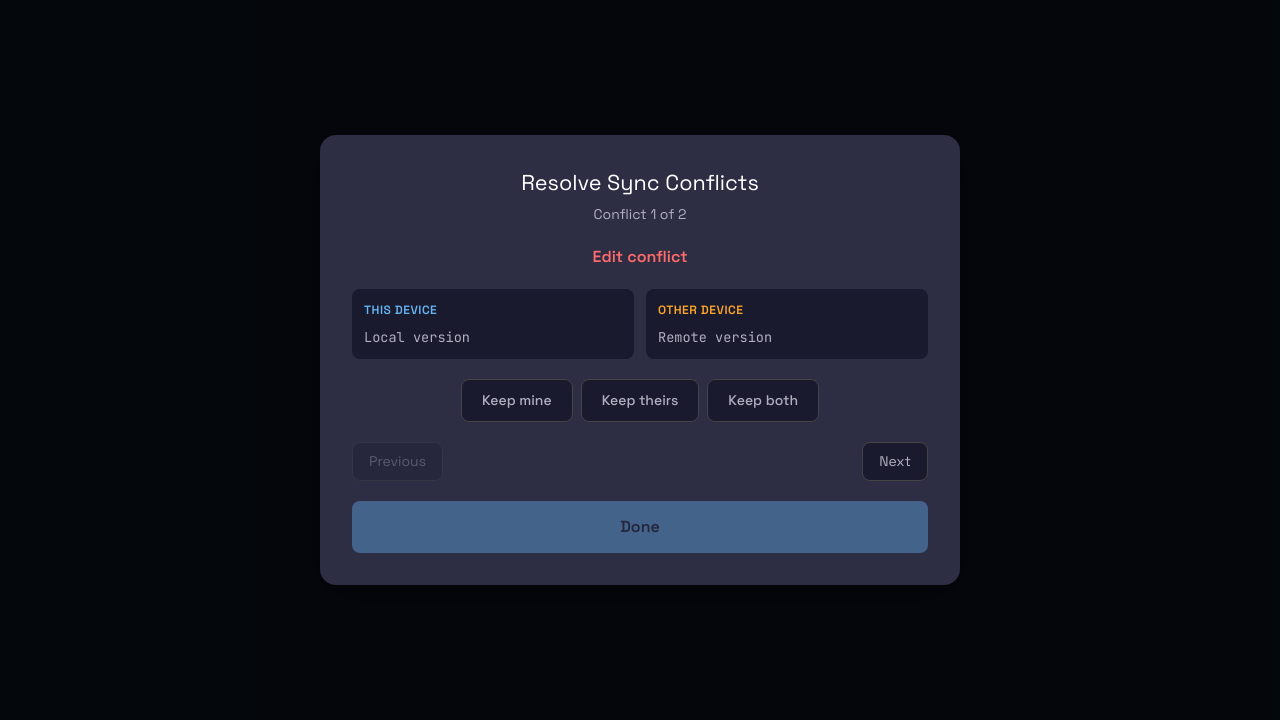
Test: ConflictResolver › navigates between multiple conflicts
The width and height of the screenshot is (1280, 720).
# Click the Next button (second .nav-btn)
Click the button with class "nav-btn" showing "Next" at (895, 461), box [862, 442, 928, 481]
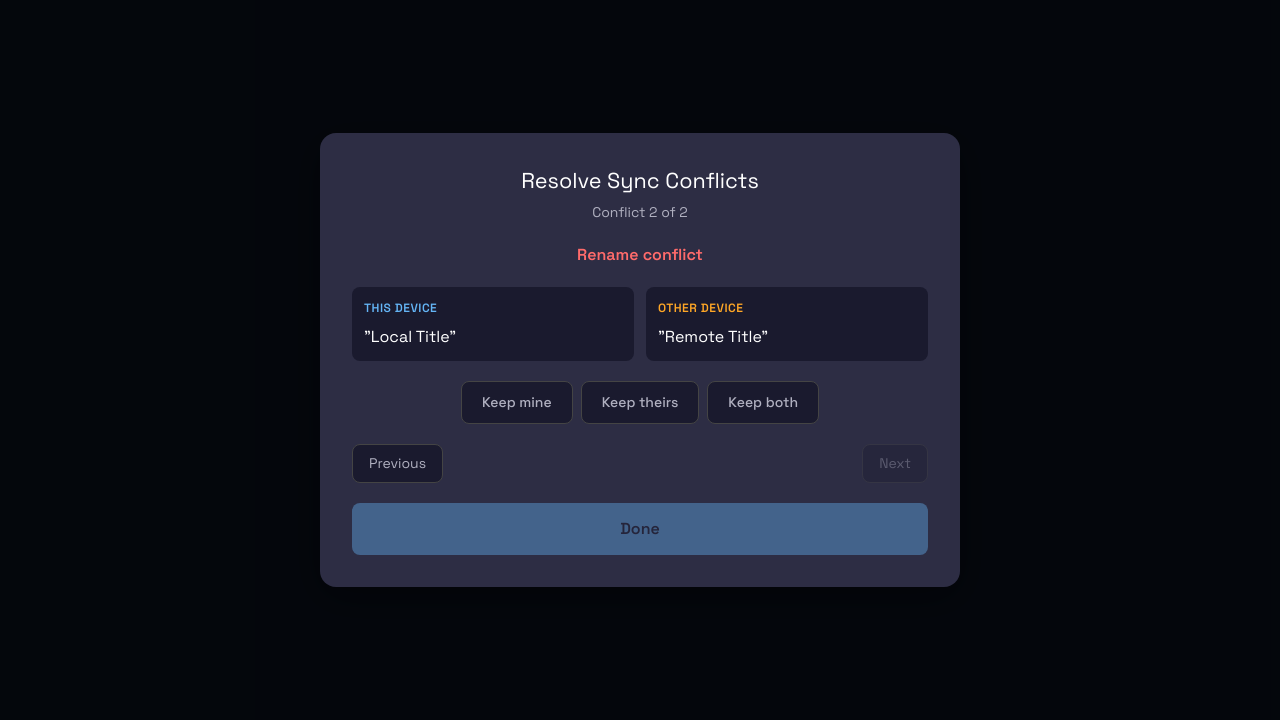
Check: the text "Conflict 2 of 2" is shown, box [592, 203, 688, 221]
